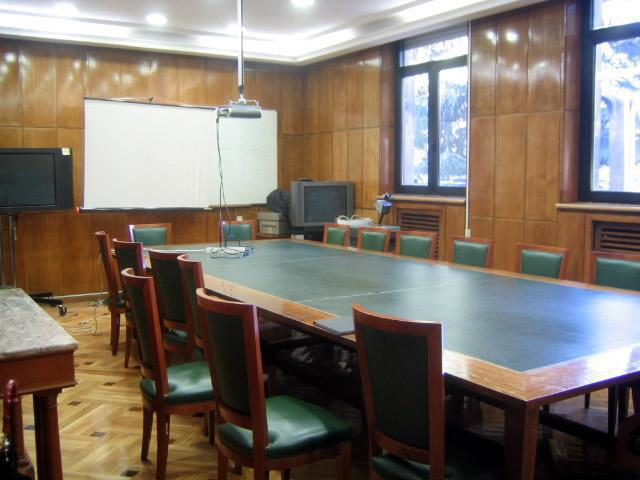Electrodomestico: (2, 142, 74, 303), (283, 176, 360, 240)
